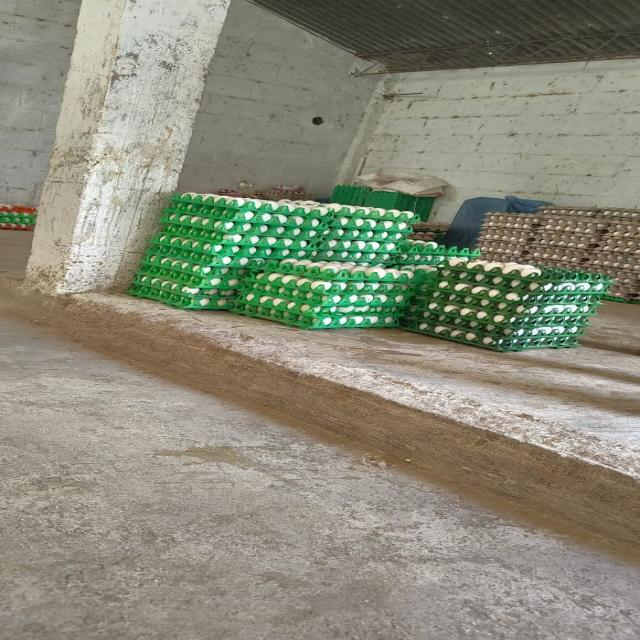egg_tray: (130, 194, 327, 308), (404, 258, 609, 350), (479, 208, 639, 301), (236, 260, 413, 328), (129, 220, 256, 308), (246, 260, 412, 326), (162, 194, 331, 258), (426, 258, 610, 314), (129, 233, 262, 308), (407, 290, 596, 338), (482, 246, 639, 301), (403, 306, 582, 351), (243, 258, 434, 299), (235, 282, 405, 328), (416, 280, 600, 322), (403, 308, 579, 351), (129, 248, 255, 308), (438, 258, 611, 300), (408, 298, 593, 336), (166, 194, 332, 236), (479, 214, 607, 265), (244, 266, 410, 304), (482, 212, 639, 252), (418, 280, 599, 314), (574, 211, 639, 302), (234, 293, 398, 328), (161, 210, 326, 244), (317, 204, 413, 262), (157, 226, 313, 258), (147, 232, 260, 274), (139, 251, 257, 289), (481, 214, 608, 248), (170, 194, 332, 220), (265, 259, 413, 286), (591, 220, 639, 303), (480, 240, 604, 272), (170, 192, 332, 216), (128, 274, 236, 309), (482, 242, 604, 272), (223, 206, 328, 240), (327, 204, 416, 240), (481, 240, 590, 269), (482, 242, 584, 270), (316, 229, 397, 263), (492, 210, 609, 233), (524, 234, 598, 266), (396, 238, 479, 264), (481, 232, 599, 250), (330, 216, 409, 242), (331, 216, 409, 242), (594, 248, 639, 293), (395, 264, 437, 310), (326, 203, 418, 224), (478, 216, 534, 250), (316, 239, 394, 263), (478, 214, 535, 246), (532, 211, 610, 234), (522, 244, 591, 269), (535, 222, 601, 248), (602, 260, 639, 303), (164, 192, 223, 216), (538, 206, 639, 220), (313, 250, 394, 266), (482, 212, 534, 236), (397, 238, 444, 264), (395, 264, 436, 293), (310, 262, 398, 275), (594, 253, 639, 278), (479, 240, 527, 262), (598, 236, 639, 256), (604, 220, 639, 240), (0, 211, 34, 230), (604, 286, 639, 304), (606, 290, 639, 304), (622, 252, 639, 278), (414, 220, 449, 232), (0, 212, 34, 224), (0, 203, 35, 214), (408, 230, 437, 241), (275, 199, 319, 206), (626, 252, 639, 275), (0, 222, 32, 230), (178, 214, 192, 231), (237, 215, 268, 221), (562, 242, 569, 254), (589, 264, 599, 271), (550, 247, 556, 258), (541, 254, 548, 263), (200, 223, 210, 228), (569, 254, 576, 261), (401, 270, 410, 275), (489, 288, 497, 293), (383, 320, 390, 325), (308, 234, 316, 238), (194, 204, 201, 208), (305, 318, 308, 326), (222, 226, 228, 230), (265, 243, 273, 246), (484, 340, 490, 344), (409, 276, 414, 280), (461, 312, 467, 315), (173, 264, 177, 268), (580, 228, 588, 230), (263, 228, 268, 231), (301, 304, 308, 306), (492, 258, 499, 260), (184, 218, 188, 221), (544, 251, 547, 254), (287, 244, 291, 246), (490, 214, 494, 216), (385, 266, 389, 268), (572, 228, 574, 232), (574, 266, 578, 268), (236, 228, 239, 230), (184, 218, 187, 220), (194, 220, 196, 222), (544, 248, 546, 250), (567, 236, 569, 238), (563, 234, 564, 238), (595, 269, 598, 270), (543, 308, 544, 310), (491, 289, 492, 290), (546, 250, 547, 251), (376, 319, 378, 319), (264, 201, 266, 201), (636, 264, 636, 266), (487, 256, 488, 256), (454, 335, 454, 337), (521, 214, 529, 214)
